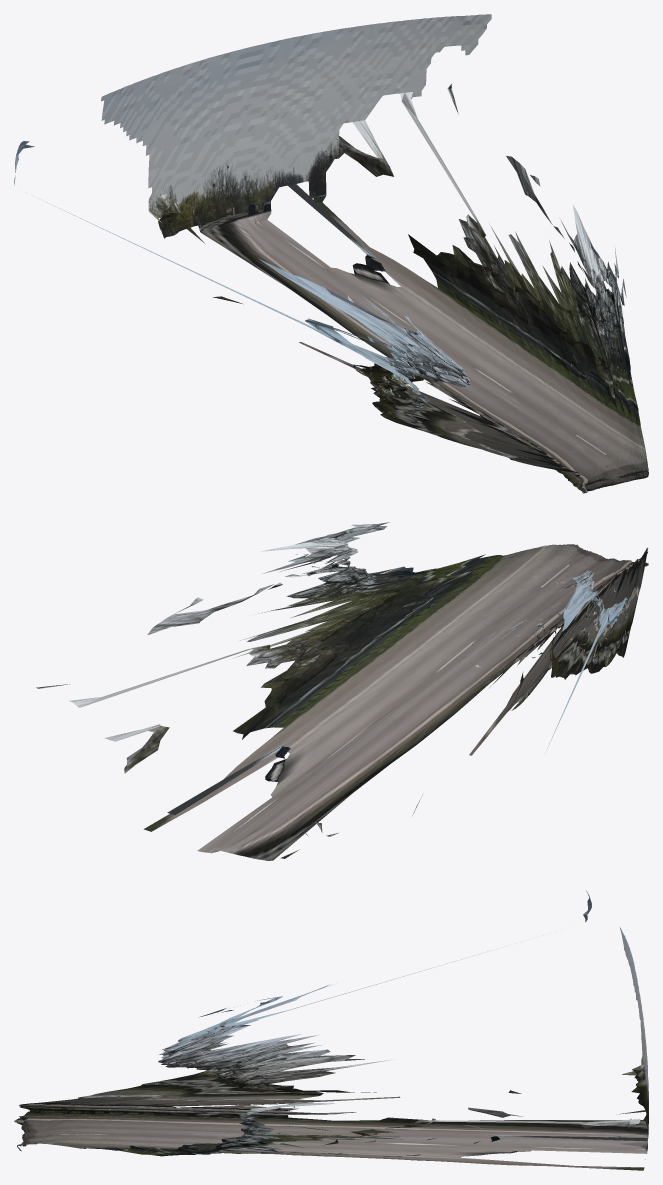
3 views of the same model, one above another, from view 1: azimuth 30°, elevation 25°; view 2: azimuth 150°, elevation 25°; view 3: azimuth 270°, elevation 25° (orthographic). The views are drawn at different scales.
Parts seen in each view (by area): view 1: defaultobject; view 2: defaultobject; view 3: defaultobject.
Boxes of the visible parts, left/top/right/bottom form: defaultobject: left=14, top=14, right=648, bottom=493; defaultobject: left=36, top=522, right=648, bottom=860; defaultobject: left=14, top=891, right=648, bottom=1170.
Size of the model in its own units: 33.81 by 12.09 by 44.78.
1 material, 1 textured.
